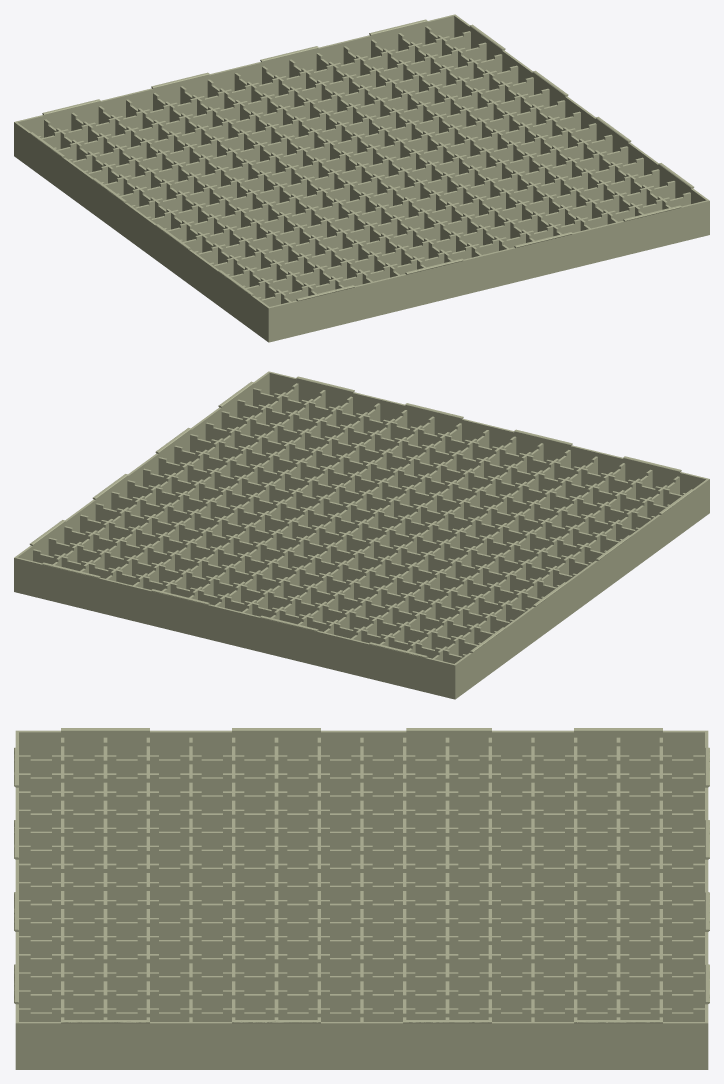
Rendered from tinker.obj.
3 views of the same model, one above another, from view 1: azimuth 30°, elevation 25°; view 2: azimuth 150°, elevation 25°; view 3: azimuth 270°, elevation 25° (orthographic). The views are drawn at different scales.
Visible parts, largest first — view 1: obj_0; view 2: obj_0; view 3: obj_0.
Boxes of the visible parts, box(x1,y1,x2,y2) form: obj_0: box(14, 14, 709, 342); obj_0: box(14, 371, 709, 699); obj_0: box(14, 728, 709, 1069).
Bounding box in the file's own units: 163 × 12.6 × 163.
